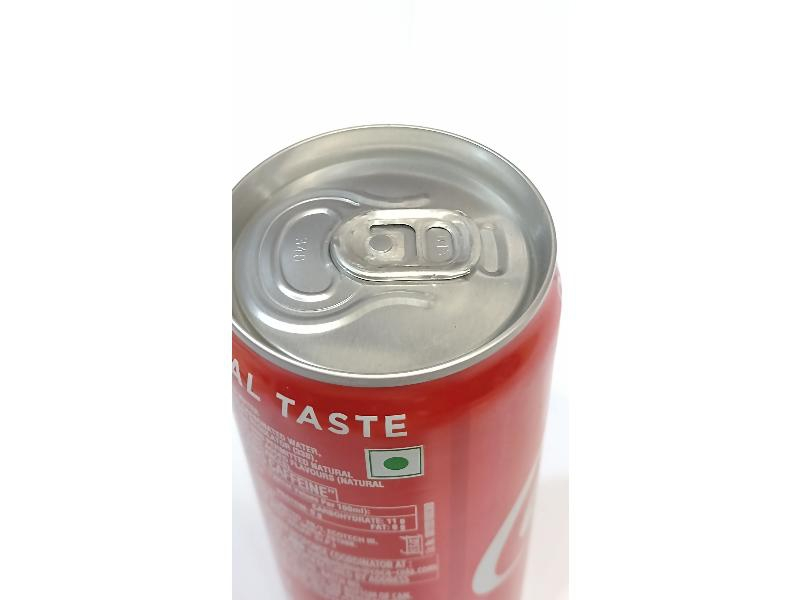can: (232, 125, 572, 594)
